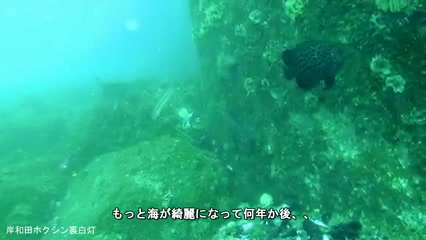smallfish: (277, 39, 356, 91)
